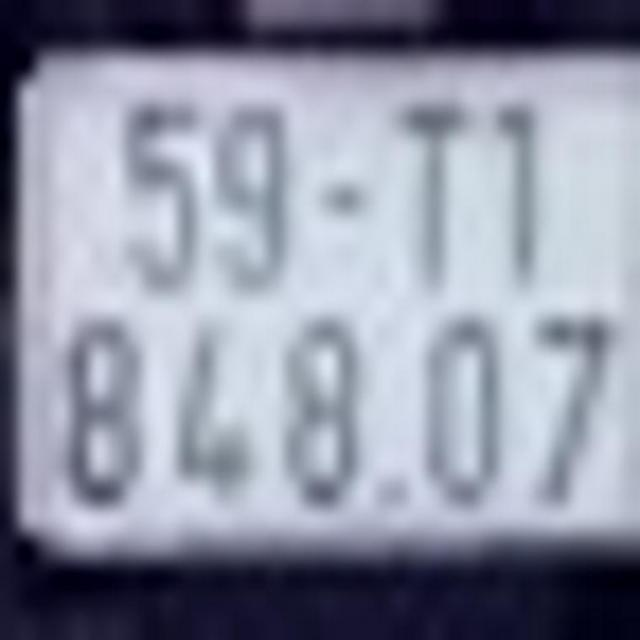0: (426, 320, 500, 510)
1: (487, 98, 545, 301)
4: (175, 316, 251, 509)
5: (124, 100, 199, 288)
7: (530, 316, 610, 511)
8: (284, 316, 358, 516), (69, 316, 148, 502)
9: (212, 106, 286, 289)
T: (398, 98, 464, 301)
